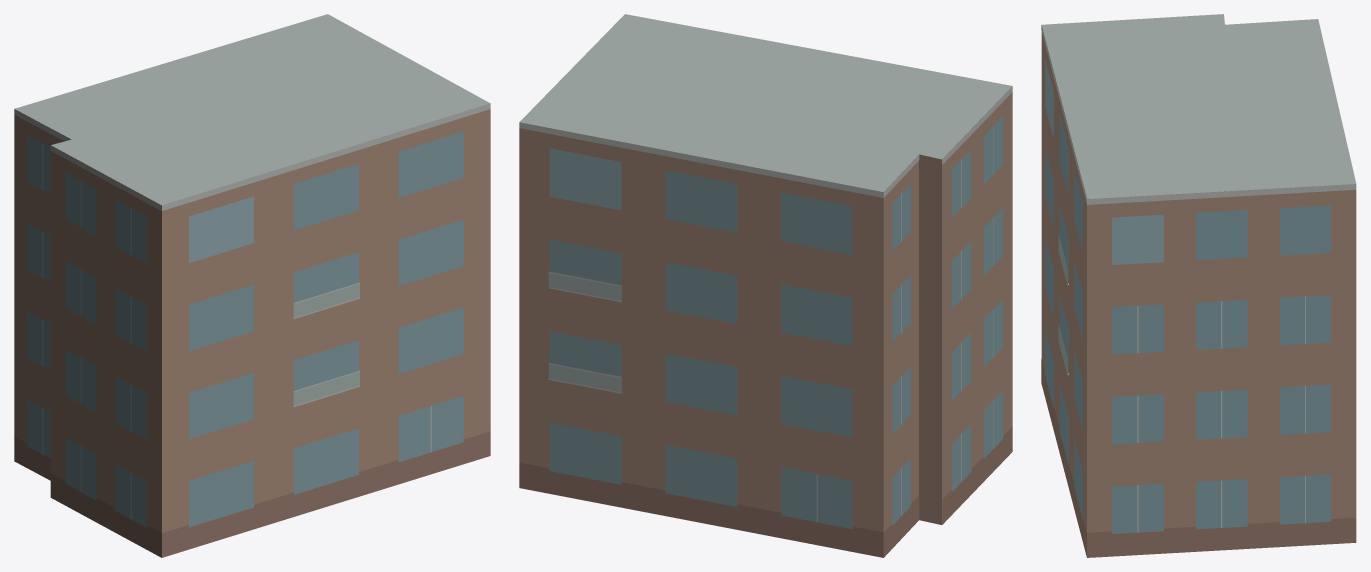
Rendered from survey-upis-32595566.glb.
3 views of the same model, side by side, from view 1: azimuth 30°, elevation 25°; view 2: azimuth 150°, elevation 25°; view 3: azimuth 270°, elevation 25° (orthographic). The views are drawn at different scales.
Parts seen in each view (by area): view 1: survey-upis-32595566.tmp; view 2: survey-upis-32595566.tmp; view 3: survey-upis-32595566.tmp.
Boxes of the visible parts, x1=… form: survey-upis-32595566.tmp: x1=14, y1=14, x2=490, y2=557; survey-upis-32595566.tmp: x1=519, y1=14, x2=1012, y2=557; survey-upis-32595566.tmp: x1=1041, y1=14, x2=1356, y2=557.
Bounding box in the file's own units: 16.72 × 15.1 × 12.02.
